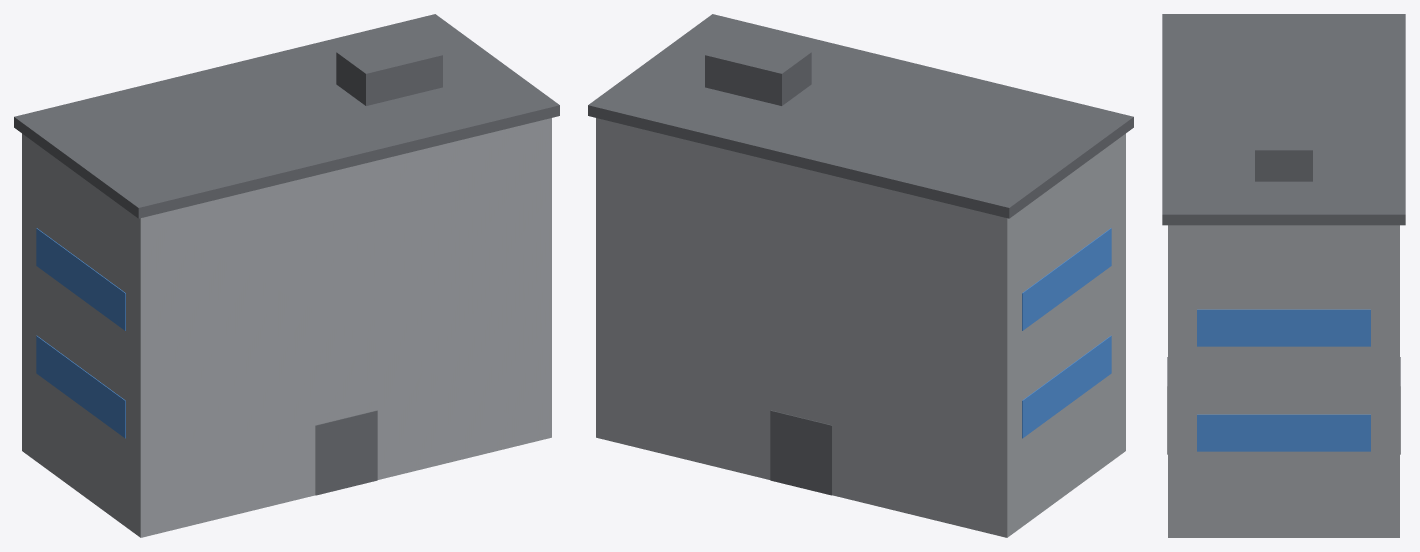
The model's file is Building_Block_01.fbx.
3 renders of one model, left to right at view 1: azimuth 30°, elevation 25°; view 2: azimuth 150°, elevation 25°; view 3: azimuth 270°, elevation 25°, orthographic. The views are drawn at different scales.
Parts seen in each view (by area): view 1: Body, Roof, Vent, Door, Windows_0, Windows_1; view 2: Body, Roof, Vent, Door, Windows_0, Windows_1; view 3: Body, Roof, Windows_0, Windows_1, Vent.
Boxes of the visible parts, <box> form: Body: <box>22,118,551,537</box>; Roof: <box>14,14,559,218</box>; Vent: <box>336,33,442,105</box>; Door: <box>315,410,377,495</box>; Windows_0: <box>36,335,125,438</box>; Windows_1: <box>36,228,125,330</box>; Body: <box>596,118,1125,537</box>; Roof: <box>588,14,1133,218</box>; Vent: <box>705,33,811,105</box>; Door: <box>770,410,832,495</box>; Windows_0: <box>1022,335,1111,438</box>; Windows_1: <box>1022,228,1111,330</box>; Body: <box>1168,225,1399,537</box>; Roof: <box>1162,14,1405,225</box>; Windows_0: <box>1197,414,1370,451</box>; Windows_1: <box>1197,309,1370,346</box>; Vent: <box>1255,113,1312,181</box>.
Bounding box in the file's own units: 16.4 × 13.6 × 8.4.
